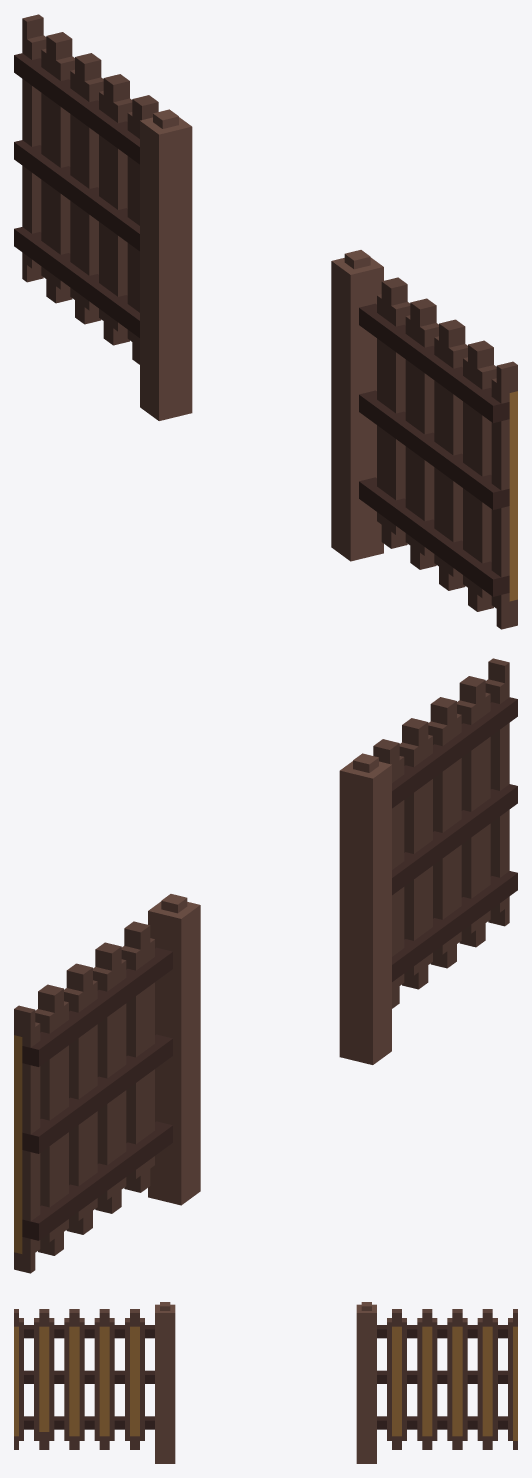
Rendered from Fences-6-Fence Door Frame.obj.
3 renders of one model, top to bottom at view 1: azimuth 30°, elevation 25°; view 2: azimuth 150°, elevation 25°; view 3: azimuth 270°, elevation 25°, orthographic. The views are drawn at different scales.
Visible parts, largest first — view 1: Fence Door Frame; view 2: Fence Door Frame; view 3: Fence Door Frame.
Boxes of the visible parts, left/top/right/bottom form: Fence Door Frame: left=14, top=14, right=517, bottom=629; Fence Door Frame: left=14, top=658, right=517, bottom=1273; Fence Door Frame: left=14, top=1302, right=517, bottom=1463.
Bounding box in the file's own units: 0.4 × 3.4 × 10.
1 material, 1 textured.
